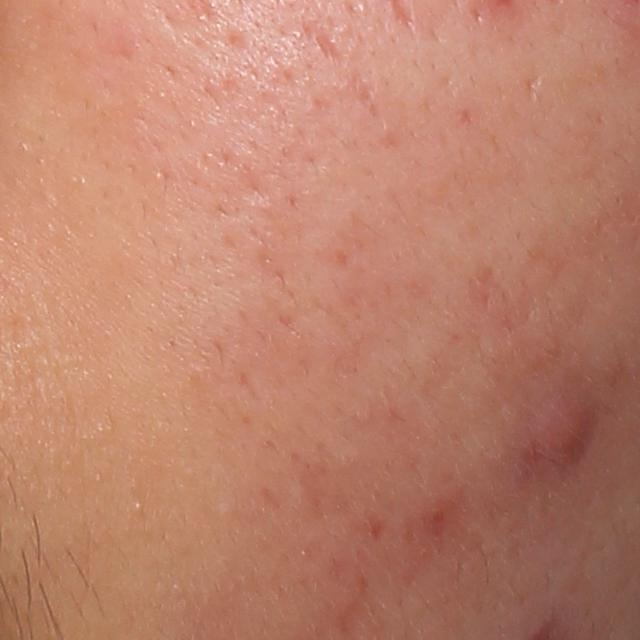atrophic_scar: (300, 15, 347, 68)
papule: (513, 378, 602, 478)
